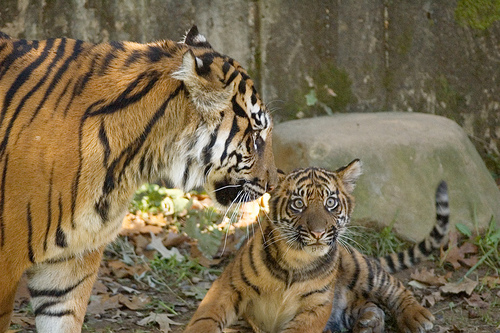Tigre: (10, 31, 273, 283), (273, 162, 389, 333)
